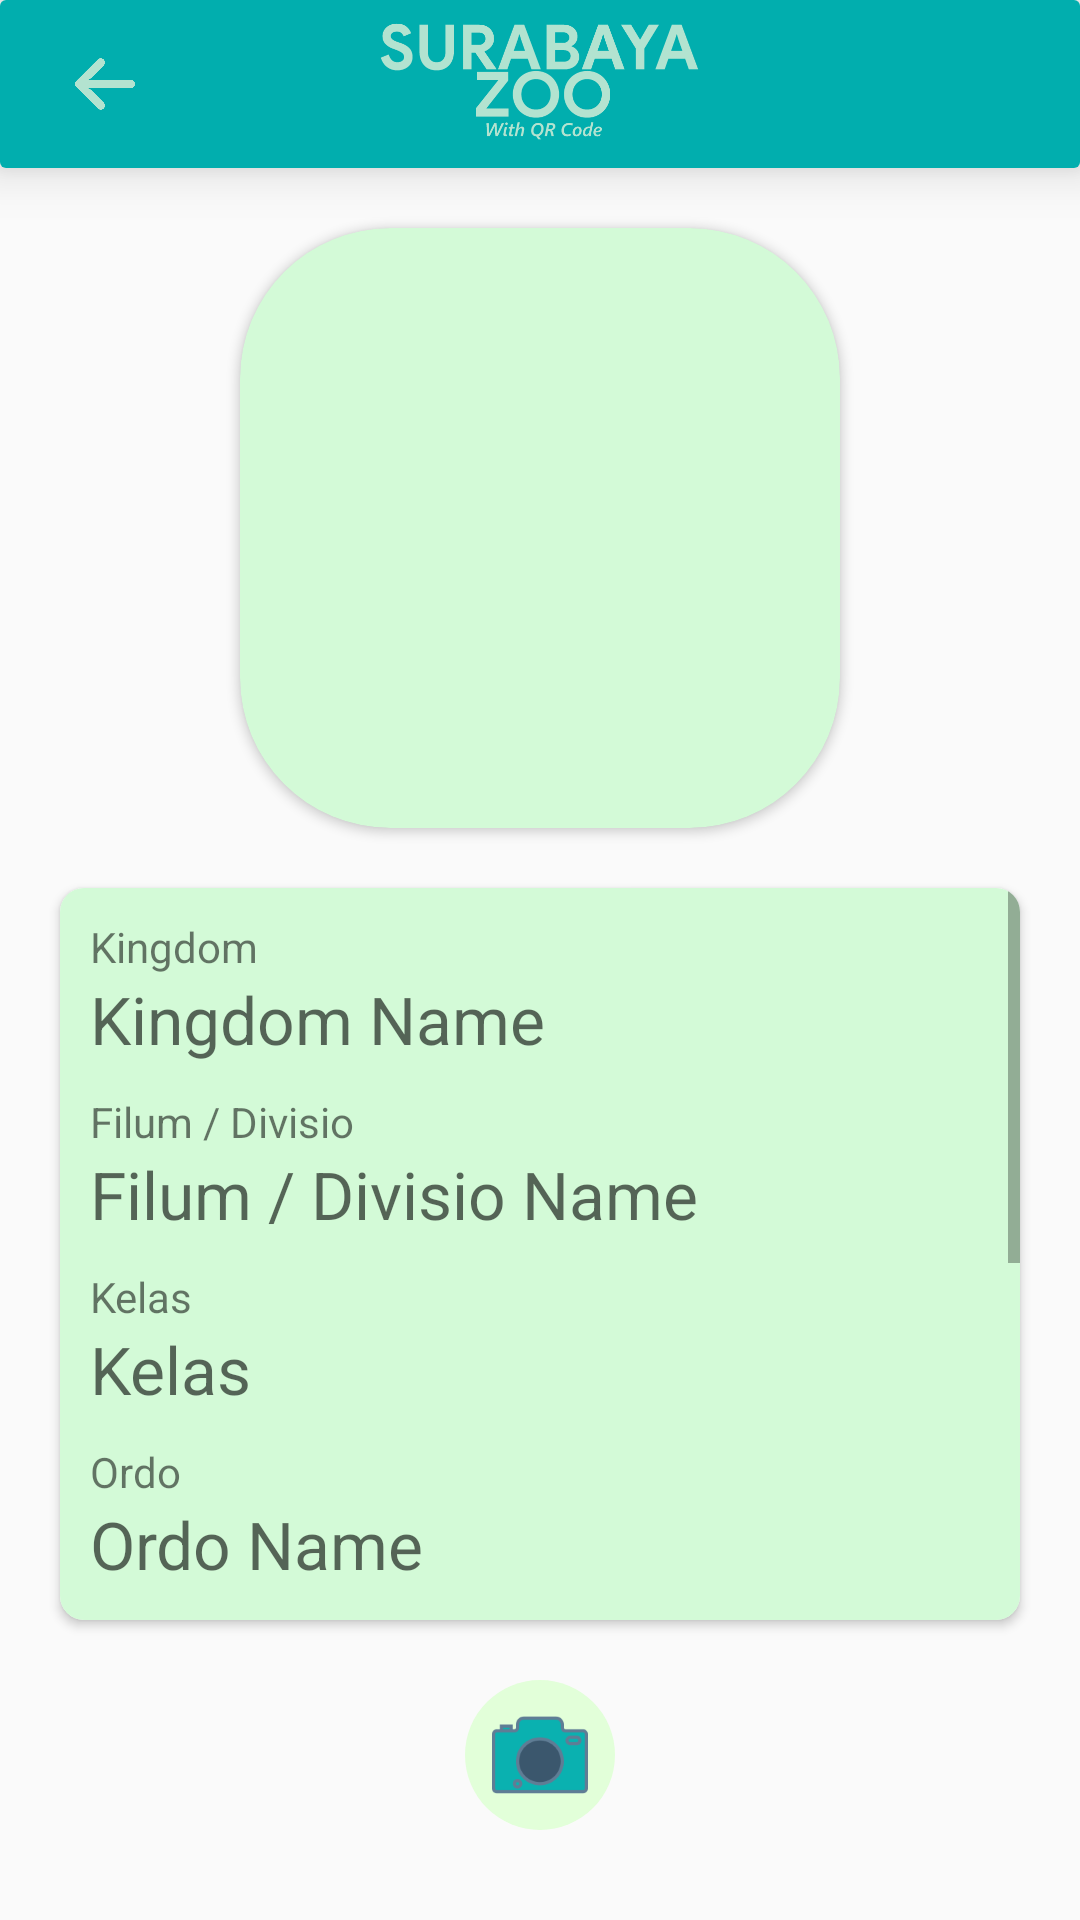

Locate icon controls on the screen. Image size 1080 × 1920, boxes as region(x1, y1, x2, y2).
back: region(75, 58, 135, 110)
camera: region(465, 1680, 615, 1830)
